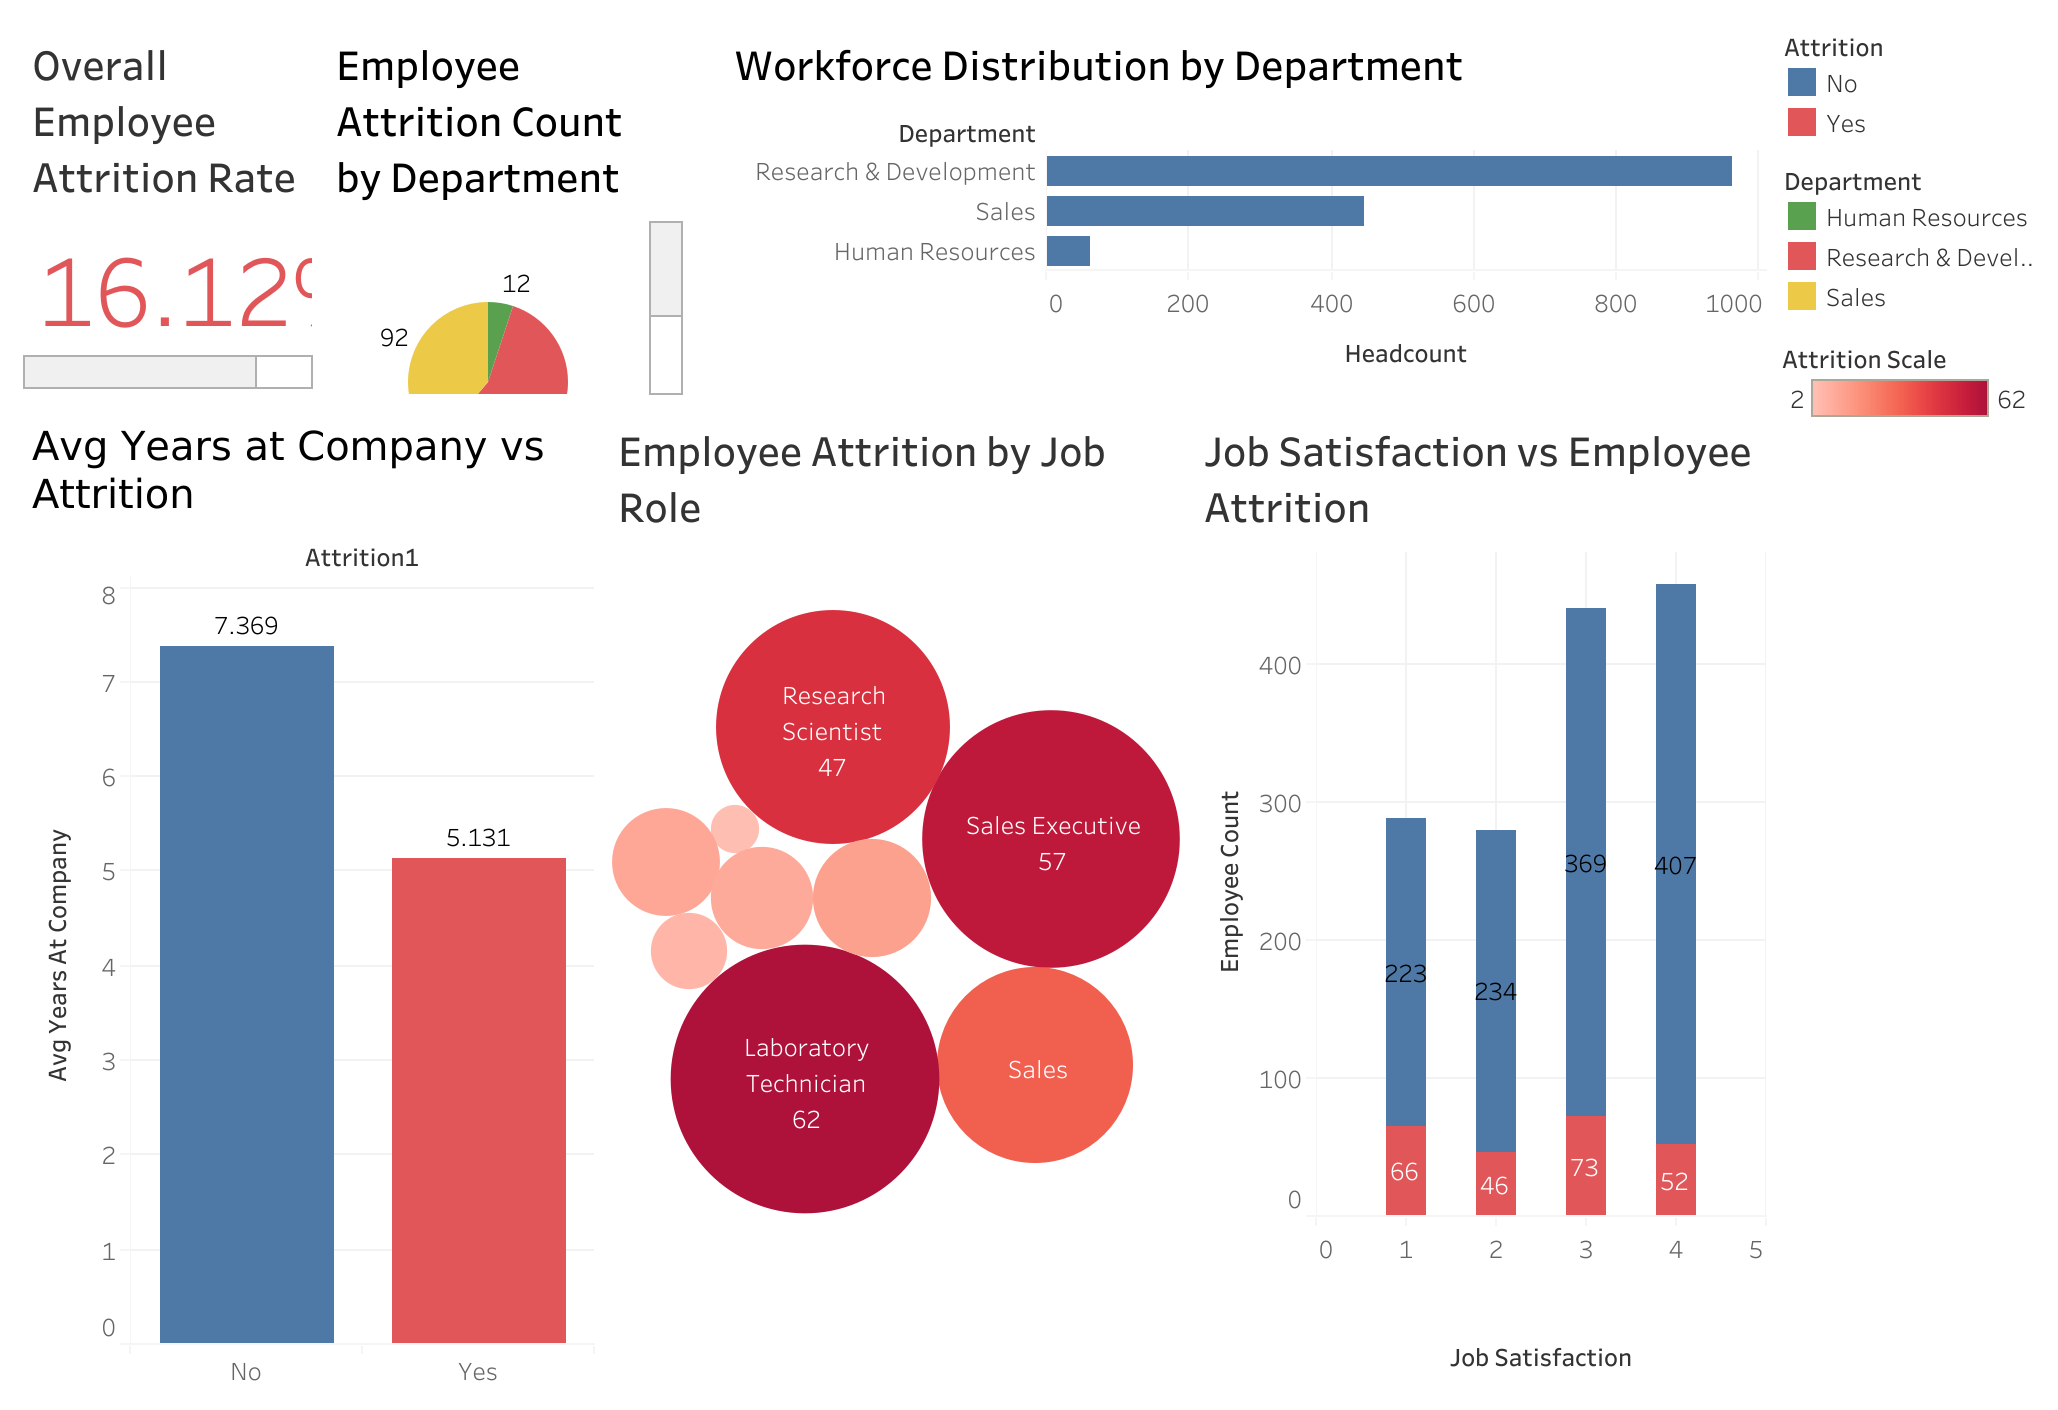

The page's visual inventory and layout, read from the dashboard file:
{"tool":"tableau","page":{"name":"Dashboard 1","canvas":[1000,1000],"units":"permille","ordinal":0},"visuals":[{"type":"worksheet","title":"Attrition Rate","mark":"Automatic","box":[6.4,11.2,170.8,274.1]},{"type":"worksheet","title":"Employee Attrition by Department","mark":"Pie","box":[177.1,11.2,180.3,274.1]},{"type":"worksheet","title":"Workforce Distribution by Department","mark":"Automatic","rows":["Department"],"cols":["Headcount"],"box":[357.4,11.2,529,274.1]},{"type":"legend","title":"Attrition by Job Satisfaction Level","param":"[federated.1j4ptvt1lg6mnp1f2vzgm0jpoz9h].[none:Attrition (JobSatisfaction!Attrit","box":[886.4,11.2,107.2,92.3]},{"type":"legend","title":"Employee Attrition by Department","param":"[federated.1j4ptvt1lg6mnp1f2vzgm0jpoz9h].[none:Department (Attrition!Department)","box":[886.4,103.5,107.2,120.3]},{"type":"legend","title":"Employee Attrition by Job Role","param":"[federated.1j4ptvt1lg6mnp1f2vzgm0jpoz9h].[sum:Attrition (Attrition!JobRole):qk]","box":[886.4,223.8,107.2,90.9]},{"type":"worksheet","title":"Avg Years at Company vs Attrition","mark":"Bar","rows":["AvgYearsAtCompany"],"cols":["Attrition (Tenure!Attrition)"],"box":[6.4,285.3,293.4,703.5]},{"type":"worksheet","title":"Employee Attrition by Job Role","mark":"Circle","box":[299.7,285.3,293.4,703.5]},{"type":"worksheet","title":"Attrition by Job Satisfaction Level","mark":"Bar","rows":["EmployeeCount"],"cols":["JobSatisfaction"],"box":[593.1,285.3,293.4,703.5]}]}

Visuals, with their boxes on the dashboard's canvas, which has no fixed pixel size, in thousandths of its width and height (x1, y1, x2, y2). These are canvas units, not pixel positions in the 2058x1410 screenshot, which may show the page scaled, cropped or inside an application window:
"Attrition Rate" worksheet: crop(6, 11, 177, 285)
"Employee Attrition by Department" worksheet (Pie marks): crop(177, 11, 357, 285)
"Workforce Distribution by Department" worksheet: crop(357, 11, 886, 285)
"Attrition by Job Satisfaction Level" legend: crop(886, 11, 994, 104)
"Employee Attrition by Department" legend: crop(886, 104, 994, 224)
"Employee Attrition by Job Role" legend: crop(886, 224, 994, 315)
"Avg Years at Company vs Attrition" worksheet (Bar marks): crop(6, 285, 300, 989)
"Employee Attrition by Job Role" worksheet (Circle marks): crop(300, 285, 593, 989)
"Attrition by Job Satisfaction Level" worksheet (Bar marks): crop(593, 285, 886, 989)
